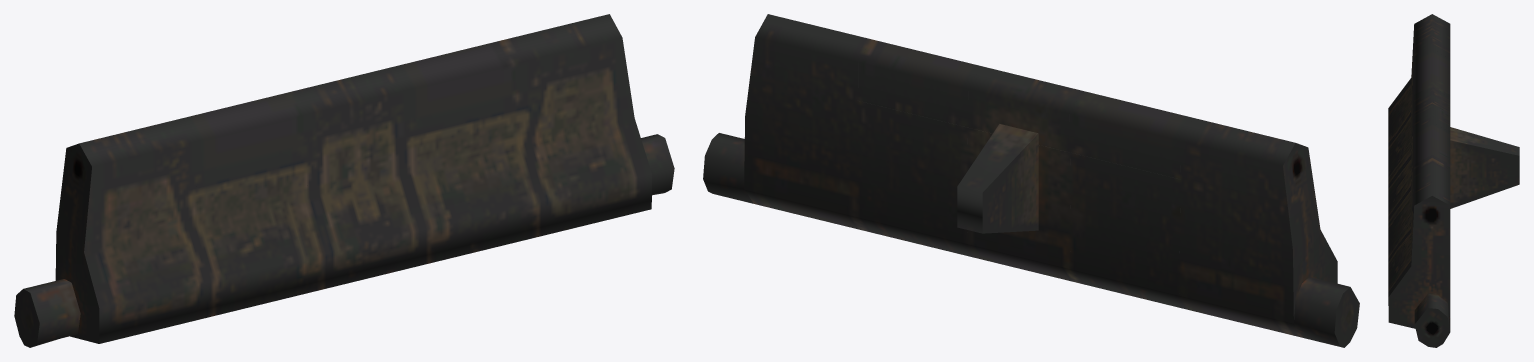
The picture shows the model from 3 angles, left to right: view 1: azimuth 30°, elevation 25°; view 2: azimuth 150°, elevation 25°; view 3: azimuth 270°, elevation 25°; orthographic projection. The views are drawn at different scales.
Parts seen in each view (by area): view 1: set_0_group_0; view 2: set_0_group_0; view 3: set_0_group_0.
Part boxes in pixels (bbox=[...]): set_0_group_0: bbox=[14, 14, 674, 347]; set_0_group_0: bbox=[703, 14, 1359, 347]; set_0_group_0: bbox=[1388, 14, 1519, 347].
Size of the model in its own units: 0.6003 by 0.1729 by 0.153.
Materials: 1 (1 with a texture image).
